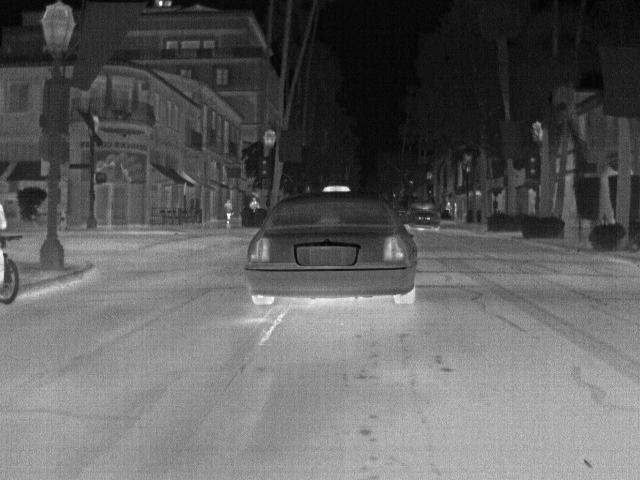car: (247, 182, 418, 307), (408, 197, 440, 230)
person: (223, 198, 235, 226), (1, 204, 8, 230), (445, 200, 453, 218), (251, 195, 261, 209), (453, 202, 460, 218)
